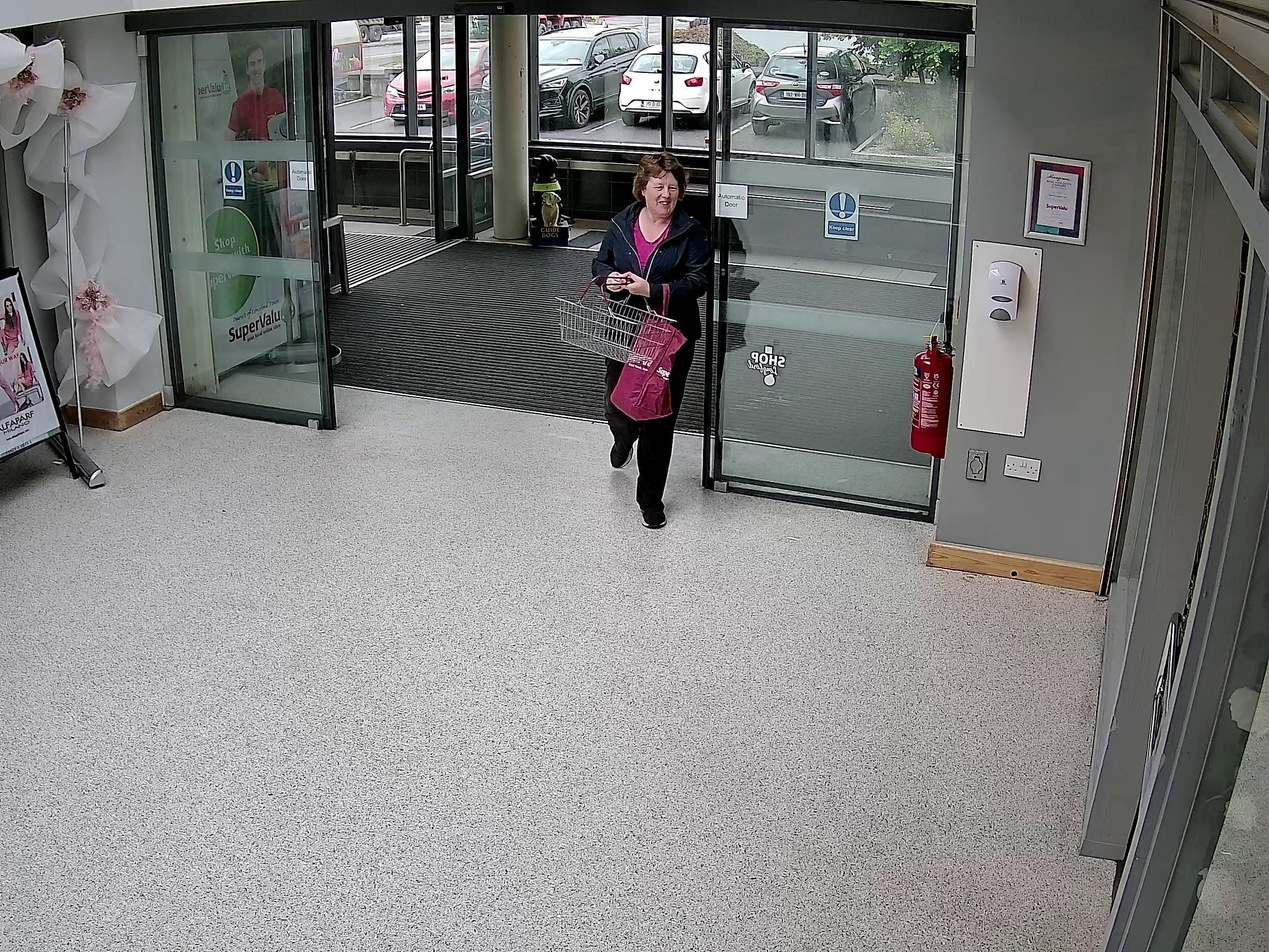empty-basket: (557, 273, 677, 365)
filled-shopping-bags: (610, 303, 689, 419)
person: (591, 150, 714, 527)
person-with-basket-trolly-and-shopping-bag: (556, 151, 716, 528)
